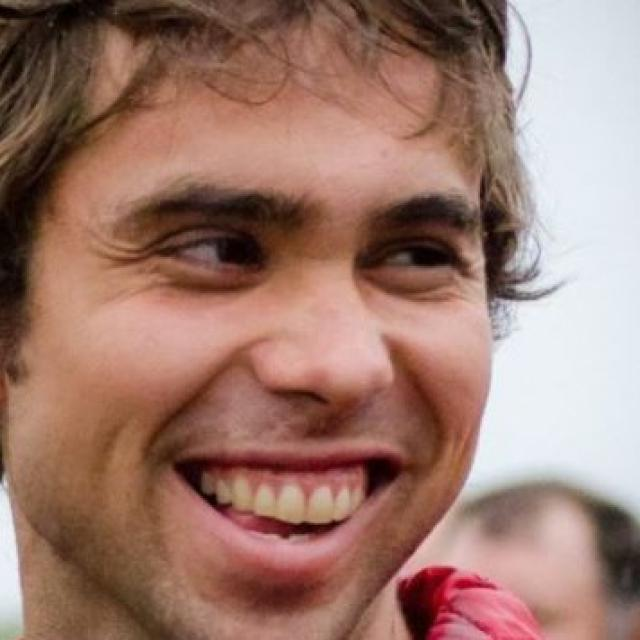Normal: (2, 16, 496, 638)
